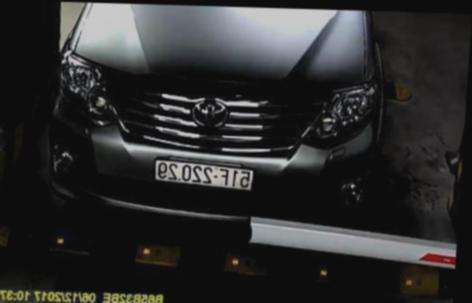License_Plate: (152, 157, 256, 191)
